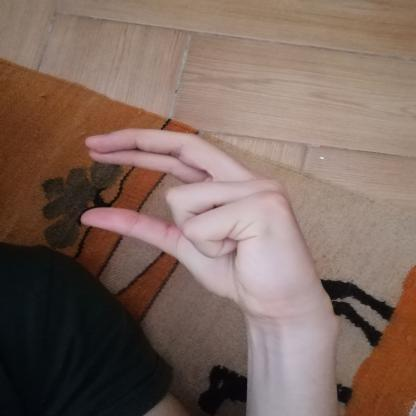DHELL: (66, 119, 333, 310)
